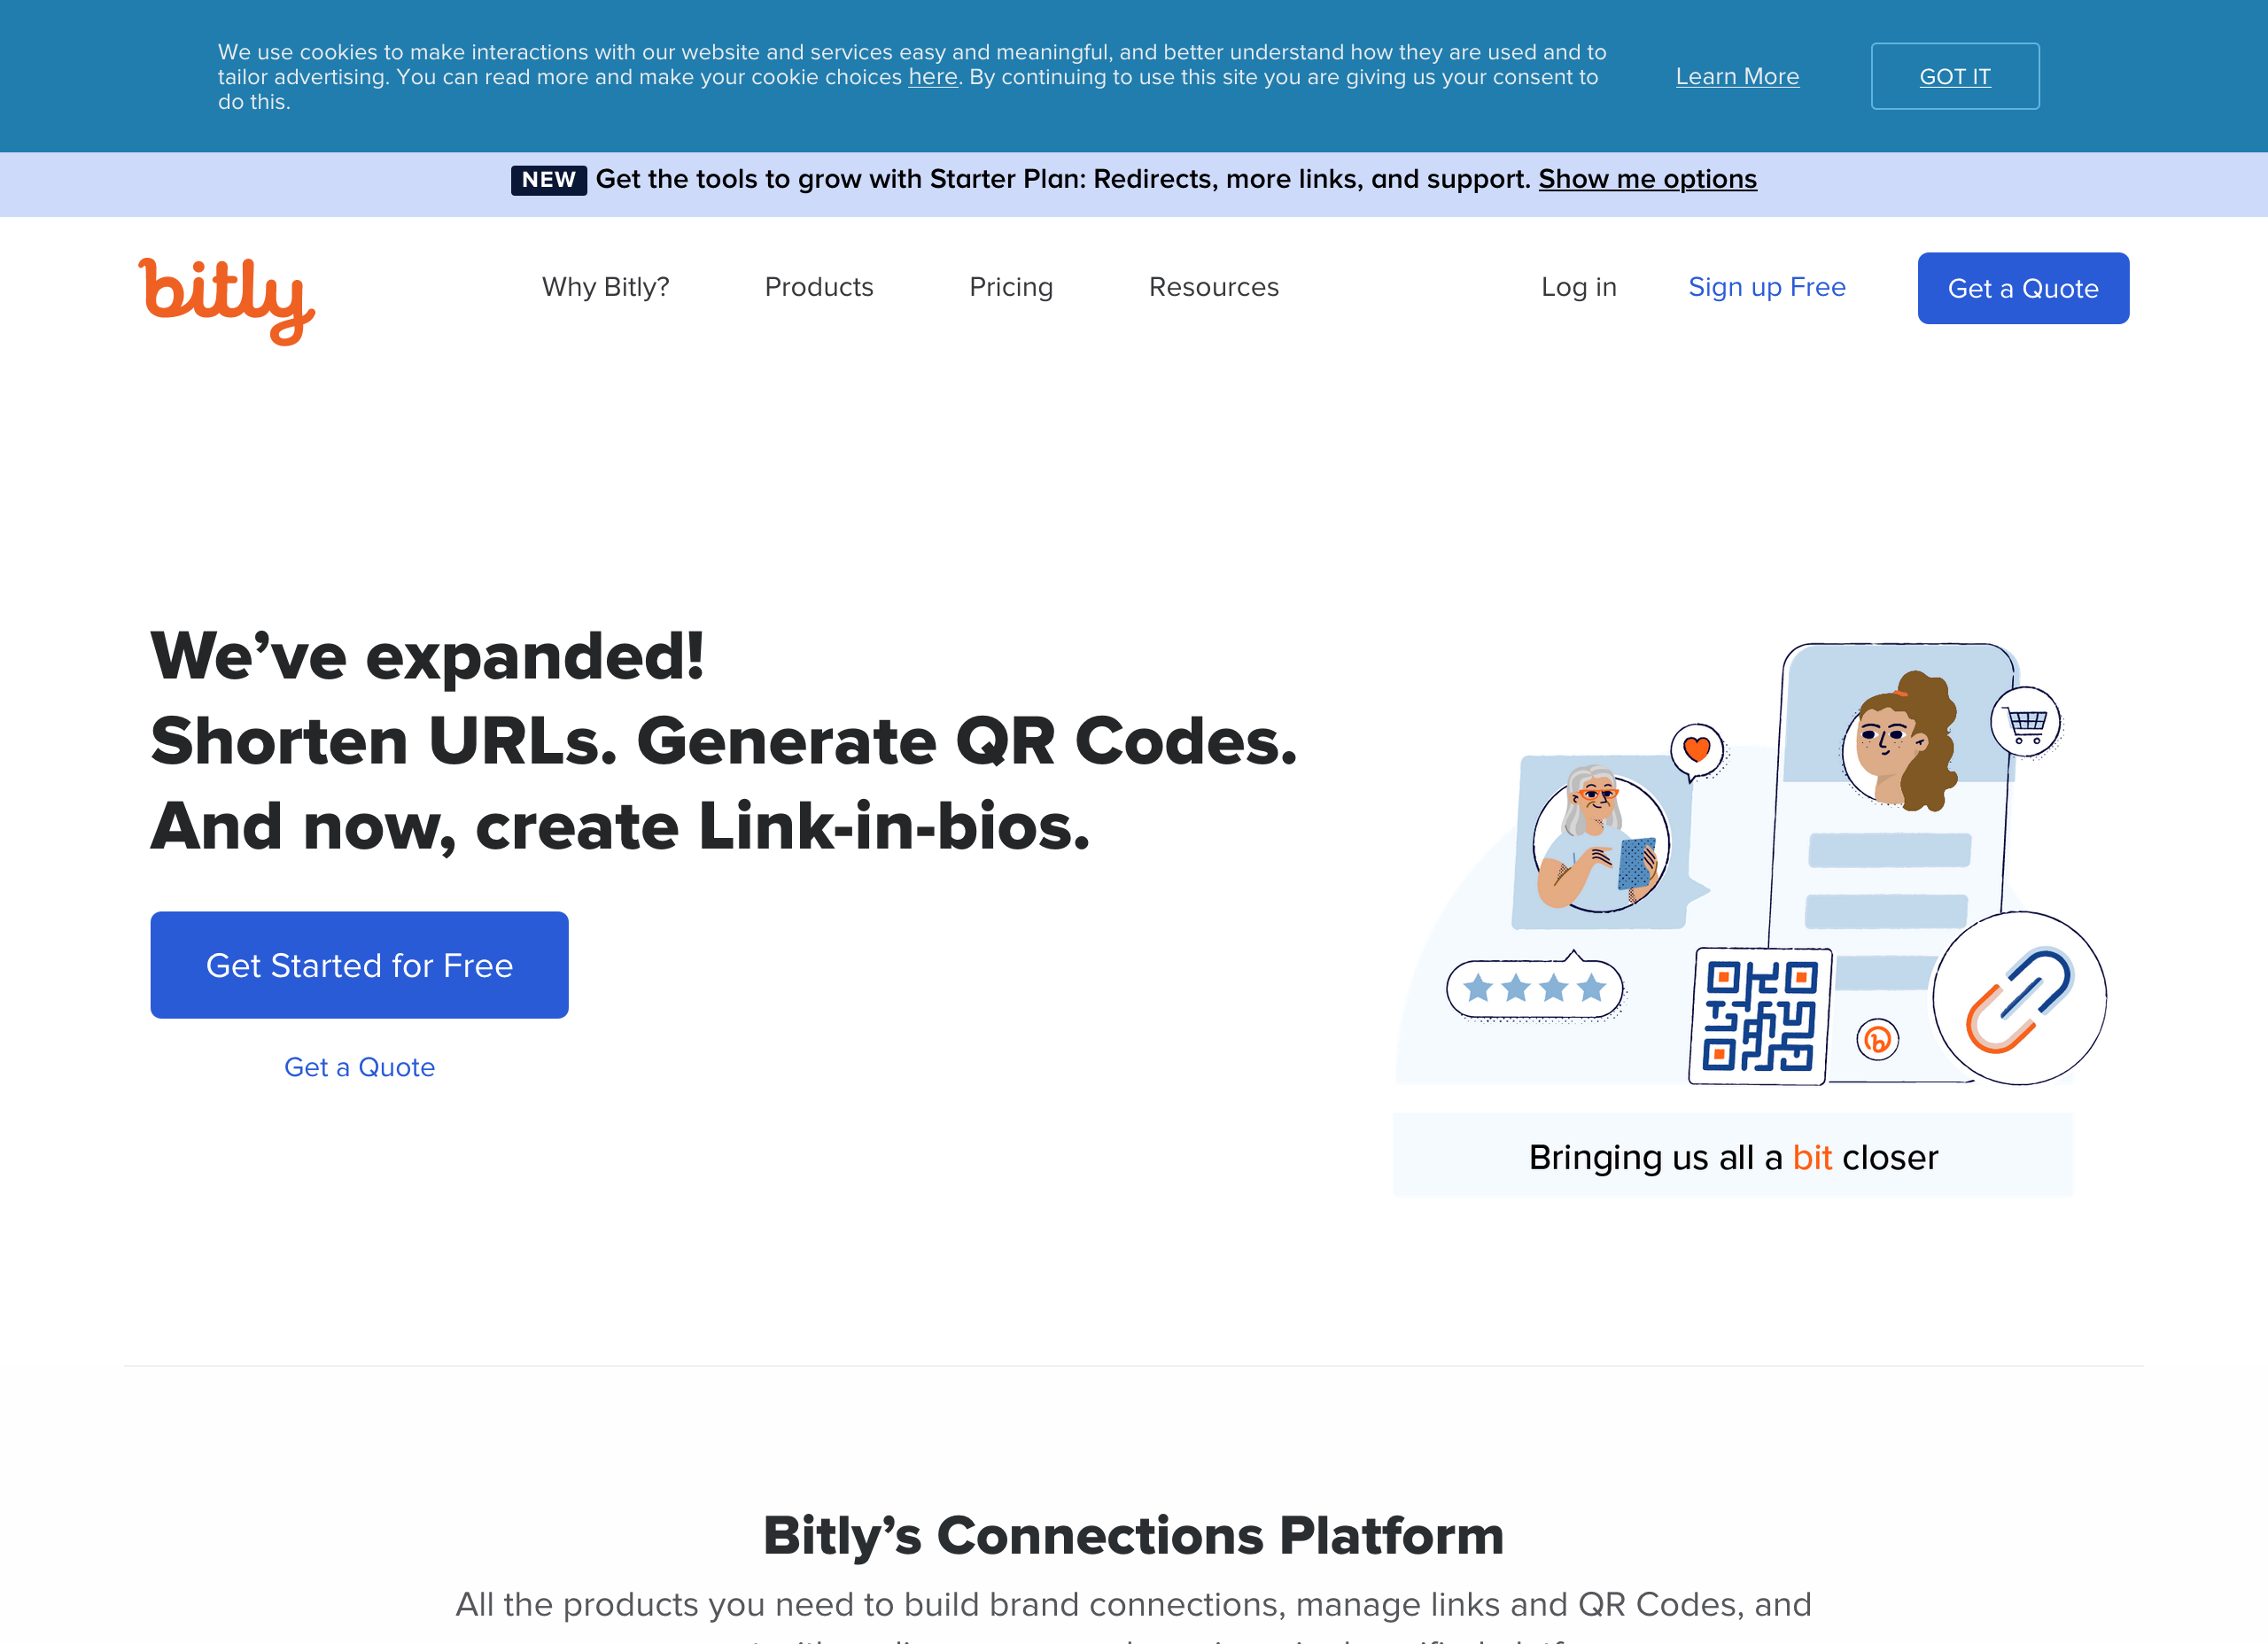Login: (1518, 257, 1645, 315)
